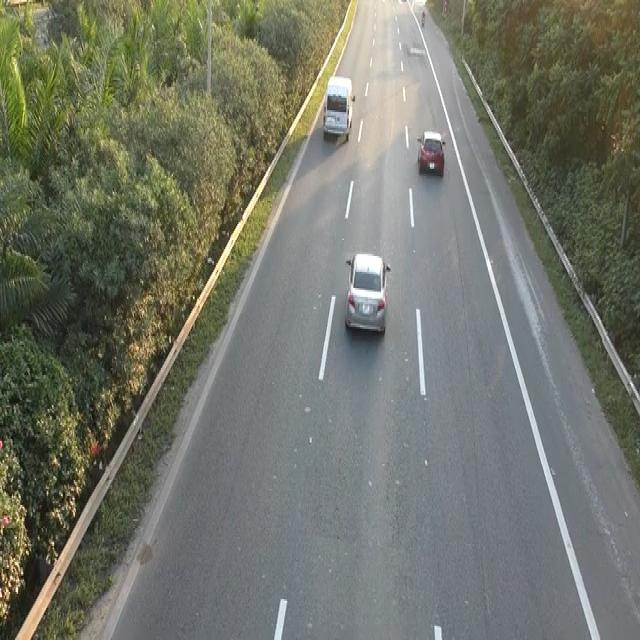bus: (342, 247, 393, 343), (416, 126, 446, 176)
jeep: (321, 73, 355, 142)
